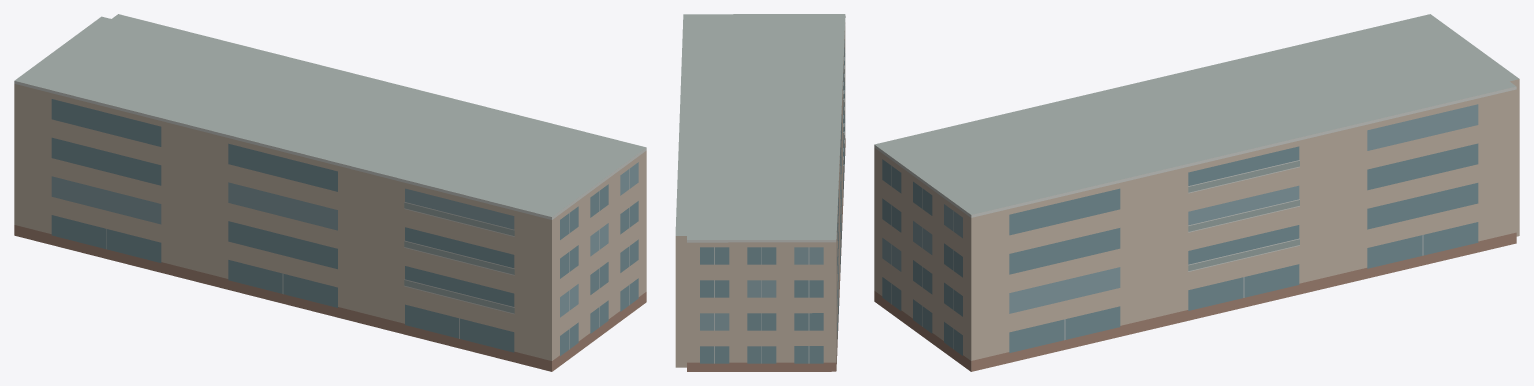
Rendered from survey-upis-32833306.glb.
The picture shows the model from 3 angles, left to right: view 1: azimuth 30°, elevation 25°; view 2: azimuth 150°, elevation 25°; view 3: azimuth 270°, elevation 25°; orthographic projection. The views are drawn at different scales.
Parts seen in each view (by area): view 1: survey-upis-32833306.tmp; view 2: survey-upis-32833306.tmp; view 3: survey-upis-32833306.tmp.
Boxes of the visible parts, <box> form: survey-upis-32833306.tmp: <box>14,14,646,371</box>; survey-upis-32833306.tmp: <box>675,14,845,371</box>; survey-upis-32833306.tmp: <box>874,14,1519,371</box>.
Bounding box in the file's own units: 35.43 × 12.9 × 48.08.
